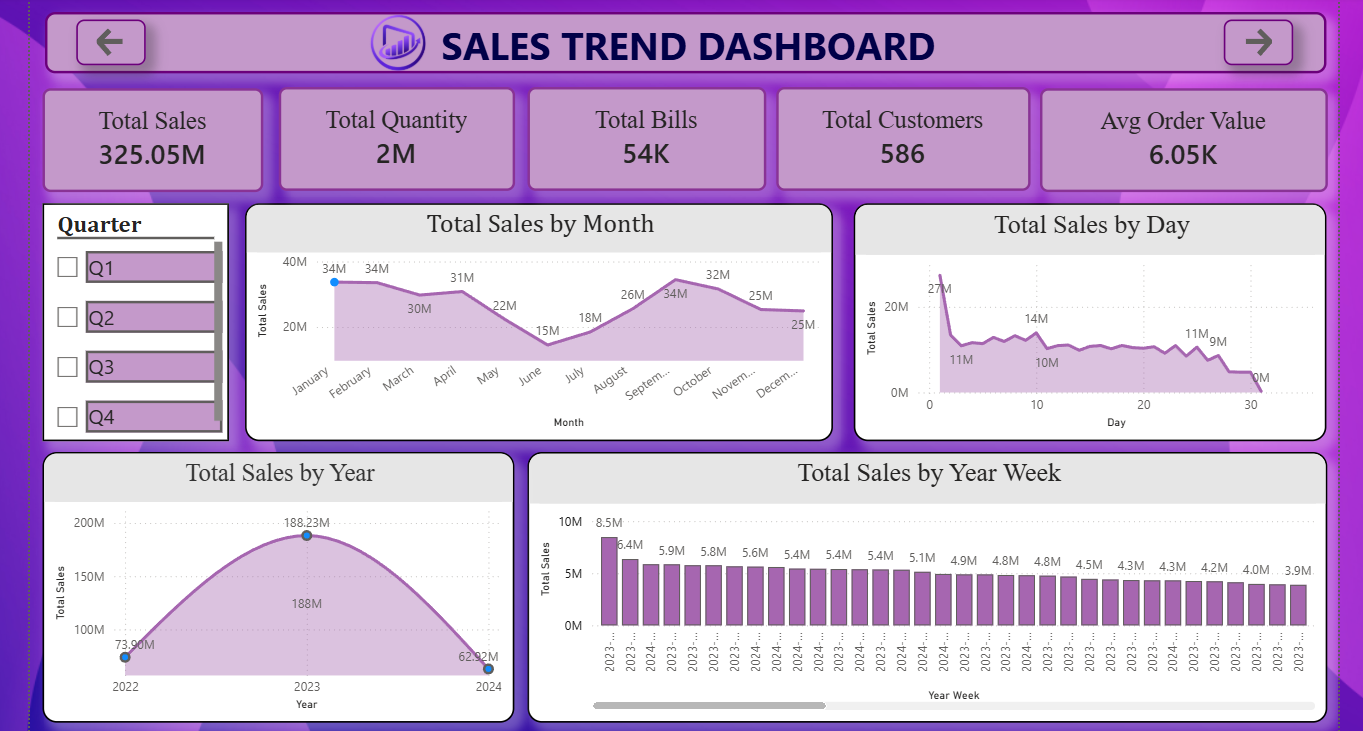

What the dashboard file says about the page in this screenshot:
{"tool":"powerbi","page":{"name":"SALES DASHBOARD","canvas":[1280,720],"ordinal":2},"visuals":[{"type":"textbox","title":"SALES TREND DASHBOARD","box":[15,15,1253.8,60],"z":0},{"type":"areaChart","fields":{"Category":["DateTable.Date.Variation.Date Hierarchy.Month"],"Y":["Cleaned_File.Total Sales"]},"box":[210,201.2,575,232.5],"z":1000},{"type":"lineChart","fields":{"Category":["DateTable.Date.Variation.Date Hierarchy.Day"],"Y":["Cleaned_File.Total Sales"]},"box":[806.2,201.2,462.5,232.5],"z":2000},{"type":"columnChart","fields":{"Category":["Cleaned_File.Year Week"],"Y":["Cleaned_File.Total Sales"]},"box":[486.2,445,782.5,265],"z":3000},{"type":"slicer","fields":{"Values":["DateTable.Quarter"]},"box":[12.5,201.2,182.5,232.5],"z":4000},{"type":"stackedAreaChart","fields":{"Category":["DateTable.Year"],"Y":["Cleaned_File.Total Sales"]},"box":[12.5,445,461.2,265],"z":5000},{"type":"cardVisual","title":"Total Sales","fields":{"Data":["Cleaned_File.Total Sales"]},"box":[12.5,88.8,216.2,101.2],"z":6000},{"type":"cardVisual","title":"Total Quantity","fields":{"Data":["Cleaned_File.Total Quantity"]},"box":[243.8,87.5,231.2,101.2],"z":7000},{"type":"cardVisual","title":"Total Bills","fields":{"Data":["Cleaned_File.Total Bills"]},"box":[486.2,87.5,233.8,101.2],"z":8000},{"type":"cardVisual","title":"Total Customers","fields":{"Data":["Cleaned_File.Total Customers"]},"box":[730,87.5,248.8,101.2],"z":9000},{"type":"cardVisual","title":"AVG Order Value","fields":{"Data":["Cleaned_File.Average Order Value"]},"box":[987.5,88.8,281.2,101.2],"z":10000},{"type":"actionButton","box":[45,22.5,68,45],"z":10001},{"type":"actionButton","box":[1167.5,22.5,68,45],"z":10002},{"type":"image","box":[321.2,8.8,77.5,72.5],"z":10003}]}

Visuals, with their boxes on the page's 1280x720 design canvas (x1, y1, x2, y2). These are canvas units, not pixel positions in the 1363x731 screenshot, which may show the page scaled, cropped or inside an application window:
"SALES TREND DASHBOARD" textbox: 15, 15, 1269, 75
areaChart - DateTable.Date.Variation.Date Hierarchy.Month x Cleaned_File.Total Sales: 210, 201, 785, 434
lineChart - DateTable.Date.Variation.Date Hierarchy.Day x Cleaned_File.Total Sales: 806, 201, 1269, 434
columnChart - Cleaned_File.Year Week x Cleaned_File.Total Sales: 486, 445, 1269, 710
slicer - DateTable.Quarter: 12, 201, 195, 434
stackedAreaChart - DateTable.Year x Cleaned_File.Total Sales: 12, 445, 474, 710
"Total Sales" cardVisual: 12, 89, 229, 190
"Total Quantity" cardVisual: 244, 88, 475, 189
"Total Bills" cardVisual: 486, 88, 720, 189
"Total Customers" cardVisual: 730, 88, 979, 189
"AVG Order Value" cardVisual: 988, 89, 1269, 190
actionButton: 45, 22, 113, 68
actionButton: 1168, 22, 1236, 68
image: 321, 9, 399, 81
